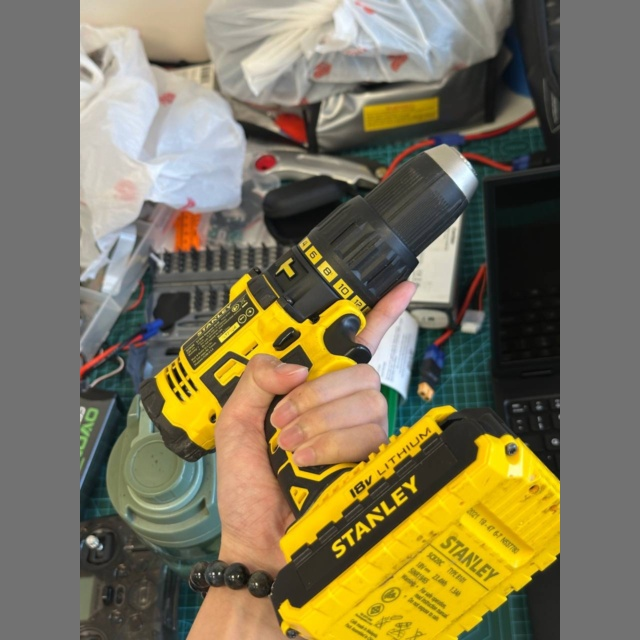drill: (141, 145, 560, 640)
